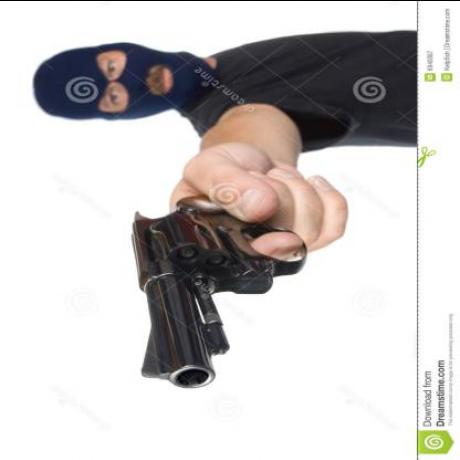1: (31, 21, 416, 241)
weapon: (122, 172, 326, 406)
